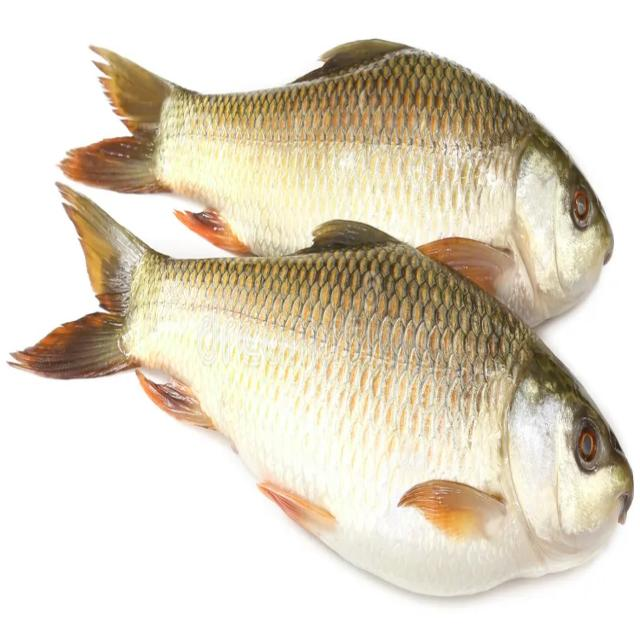Rohu: (3, 181, 633, 599)
